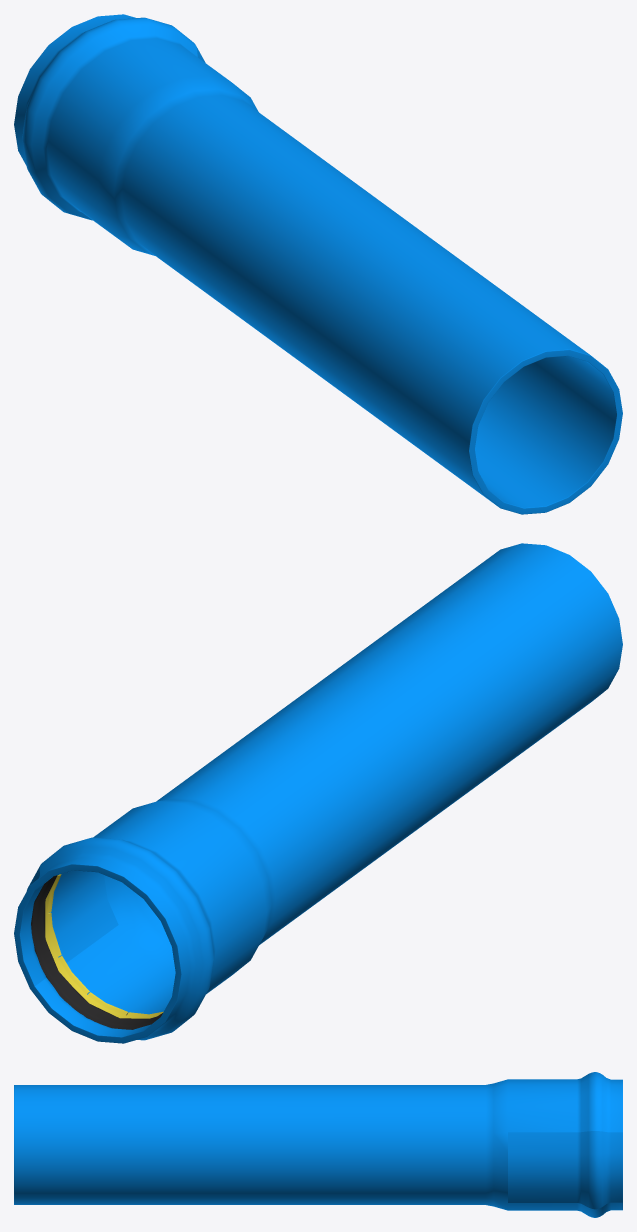
File: BlueForce.glb
3 views of the same model, one above another, from view 1: azimuth 30°, elevation 25°; view 2: azimuth 150°, elevation 25°; view 3: azimuth 270°, elevation 25° (orthographic). The views are drawn at different scales.
Parts seen in each view (by area): view 1: BLUFORCE_DN200_PN16_TUBE; view 2: BLUFORCE_DN200_PN16_TUBE, BLUFORCE_DN200_PN16_SLIDER, RUBBER_GASKET_DN200, PP_GF30_RING_DN200; view 3: BLUFORCE_DN200_PN16_TUBE, BLUFORCE_DN200_PN16_SLIDER.
Boxes of the visible parts, bbox=[...] form: BLUFORCE_DN200_PN16_TUBE: bbox=[14, 14, 622, 514]; BLUFORCE_DN200_PN16_TUBE: bbox=[30, 543, 622, 1043]; BLUFORCE_DN200_PN16_SLIDER: bbox=[14, 865, 118, 988]; RUBBER_GASKET_DN200: bbox=[31, 875, 162, 1029]; PP_GF30_RING_DN200: bbox=[45, 874, 163, 1018]; BLUFORCE_DN200_PN16_TUBE: bbox=[14, 1072, 622, 1217]; BLUFORCE_DN200_PN16_SLIDER: bbox=[508, 1131, 622, 1209].
Size of the model in its own units: 0.0607 by 0.0607 by 0.2515.
Materials: 1 (1 with a texture image).
